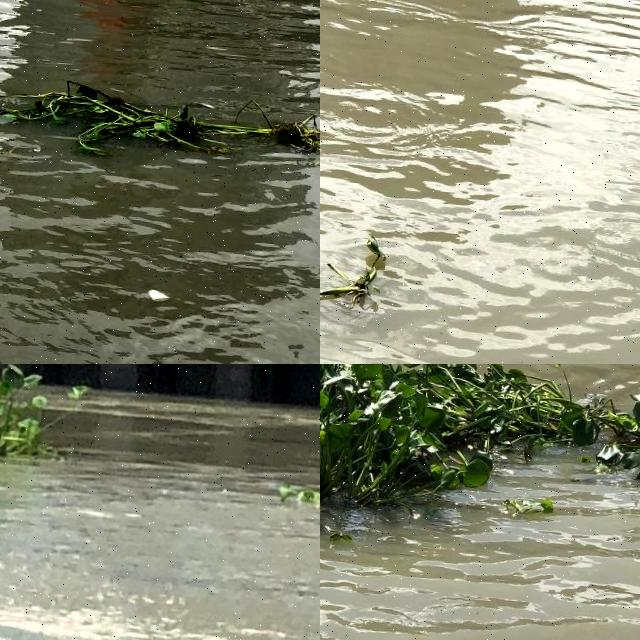water-hyacinth: (321, 365, 606, 560), (1, 70, 321, 171), (1, 365, 137, 484), (590, 389, 640, 491)
